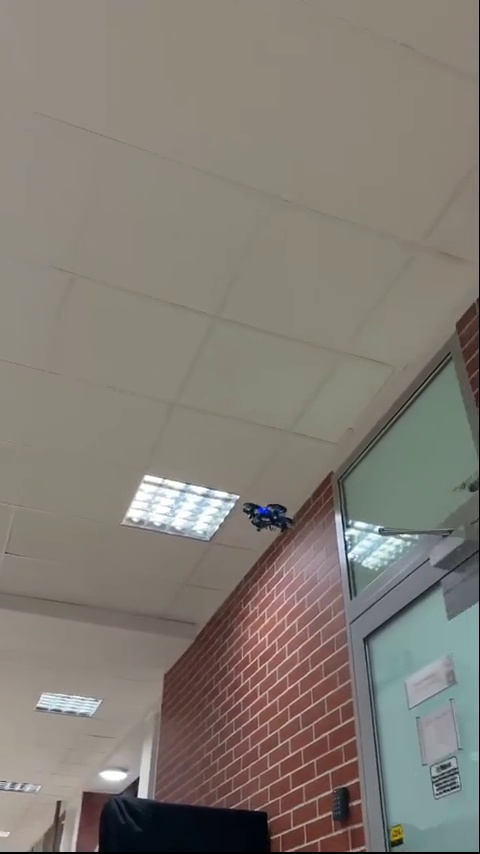drone: (242, 503, 297, 535)
